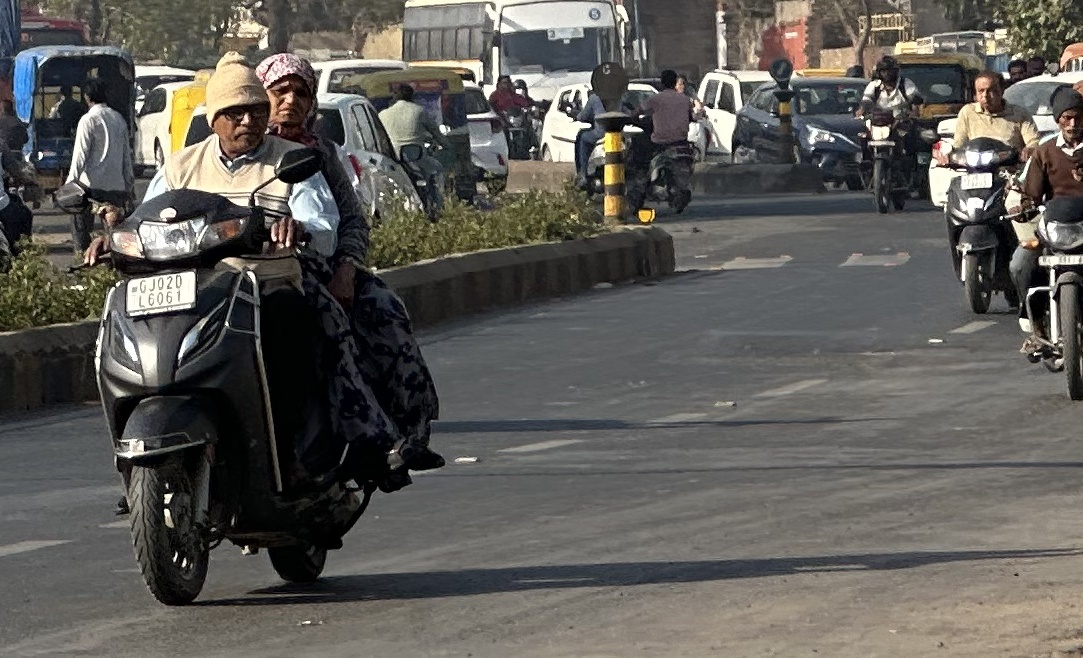BikeWithRider: (61, 45, 457, 611), (928, 64, 1044, 319), (998, 76, 1082, 408), (849, 48, 933, 219), (635, 61, 709, 219)
Helmet: (874, 53, 901, 83)
NoHelmet: (196, 58, 279, 157), (249, 47, 326, 138), (1043, 80, 1082, 147), (967, 67, 1012, 117), (659, 66, 679, 91)
